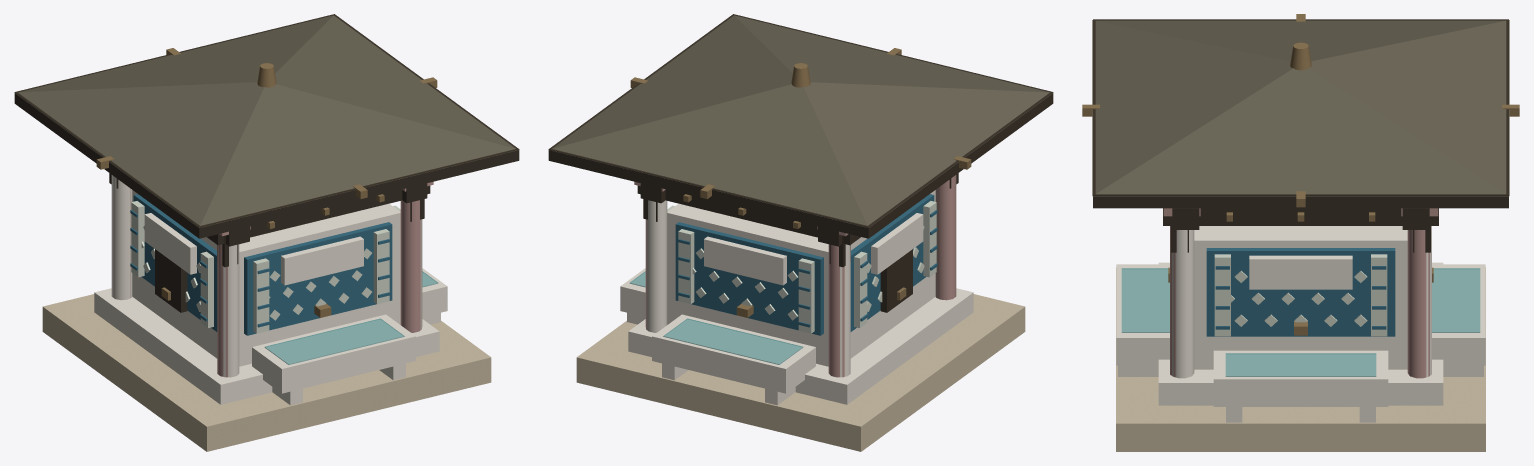
Rendered from Mecidiye-Cinili-Cesme-Bursa.glb.
The picture shows the model from 3 angles, left to right: view 1: azimuth 30°, elevation 25°; view 2: azimuth 150°, elevation 25°; view 3: azimuth 270°, elevation 25°; orthographic projection. The views are drawn at different scales.
Visible parts, largest first — view 1: Bakır kaplı dört eğimli saçak, Mecidiye Çinili Çeşme · 1994 yeniden yapım, Çeşme taş platformu, Mermer yalak (×2), Çeşme merkezi, Kütahya çinili ayna (×2), Dört yüzlü çeşme kaidesi, Kitabe panosu yorumu (×2), Doğu bakım kapağı; view 2: Bakır kaplı dört eğimli saçak, Mecidiye Çinili Çeşme · 1994 yeniden yapım, Çeşme taş platformu, Mermer yalak (×2), Çeşme merkezi, Kütahya çinili ayna (×2), Dört yüzlü çeşme kaidesi, Kitabe panosu yorumu (×2), Doğu bakım kapağı; view 3: Bakır kaplı dört eğimli saçak, Mecidiye Çinili Çeşme · 1994 yeniden yapım, Mermer yalak (×3), Çeşme taş platformu, Çeşme merkezi, Kütahya çinili ayna, Dört yüzlü çeşme kaidesi, Kitabe panosu yorumu.
Part boxes in pixels (x1,y1,x2,y2): Bakır kaplı dört eğimli saçak: (14,15,518,227); Mecidiye Çinili Çeşme · 1994 yeniden yapım: (14,14,519,405); Çeşme taş platformu: (42,294,491,451); Mermer yalak (×2): (252,268,447,393); Çeşme merkezi: (132,190,400,366); Kütahya çinili ayna (×2): (133,194,392,335); Dört yüzlü çeşme kaidesi: (94,288,439,404); Kitabe panosu yorumu (×2): (144,213,363,285); Doğu bakım kapağı: (155,249,187,312); Bakır kaplı dört eğimli saçak: (549,15,1053,227); Mecidiye Çinili Çeşme · 1994 yeniden yapım: (548,14,1053,405); Çeşme taş platformu: (576,294,1025,451); Mermer yalak (×2): (620,268,815,393); Çeşme merkezi: (667,190,935,366); Kütahya çinili ayna (×2): (675,194,934,335); Dört yüzlü çeşme kaidesi: (628,288,973,404); Kitabe panosu yorumu (×2): (704,213,923,285); Doğu bakım kapağı: (880,249,912,312); Bakır kaplı dört eğimli saçak: (1092,20,1509,196); Mecidiye Çinili Çeşme · 1994 yeniden yapım: (1082,14,1519,422); Mermer yalak (×3): (1116,264,1485,406); Çeşme taş platformu: (1116,267,1485,451); Çeşme merkezi: (1194,226,1407,369); Kütahya çinili ayna: (1206,248,1395,336); Dört yüzlü çeşme kaidesi: (1158,262,1443,405); Kitabe panosu yorumu: (1249,255,1352,289).
Size of the model in its own units: 6.15 by 5.08 by 6.15.
Materials: 9 (1 with a texture image).
